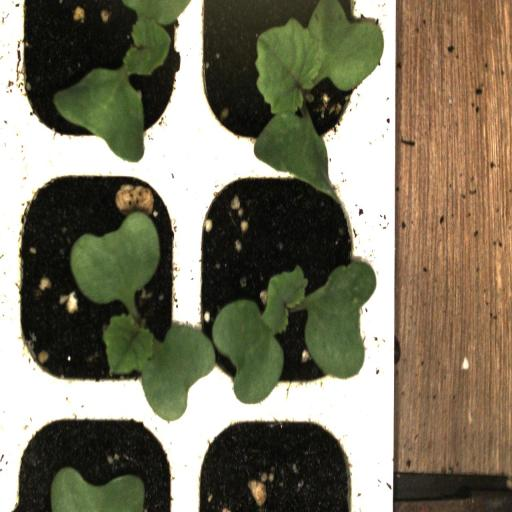Folha: (50, 466, 145, 512)
Germinacao: (192, 148, 367, 407), (8, 152, 189, 393), (190, 0, 373, 150), (9, 0, 189, 147)
